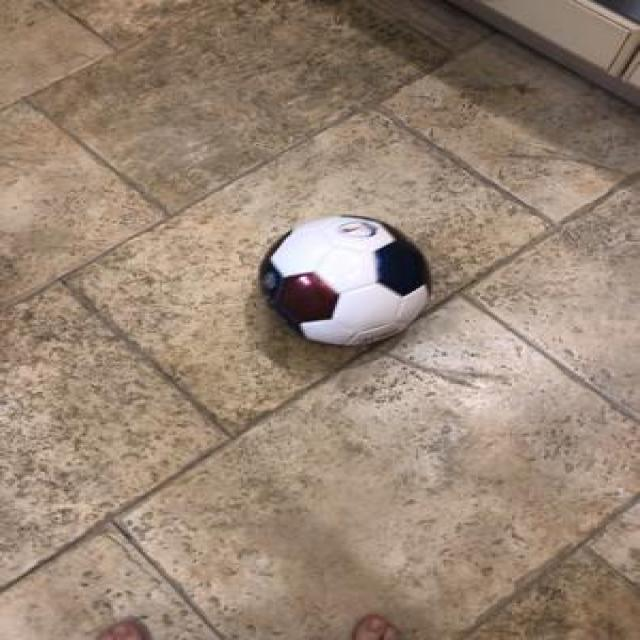Soccer Ball: (256, 212, 429, 346)
